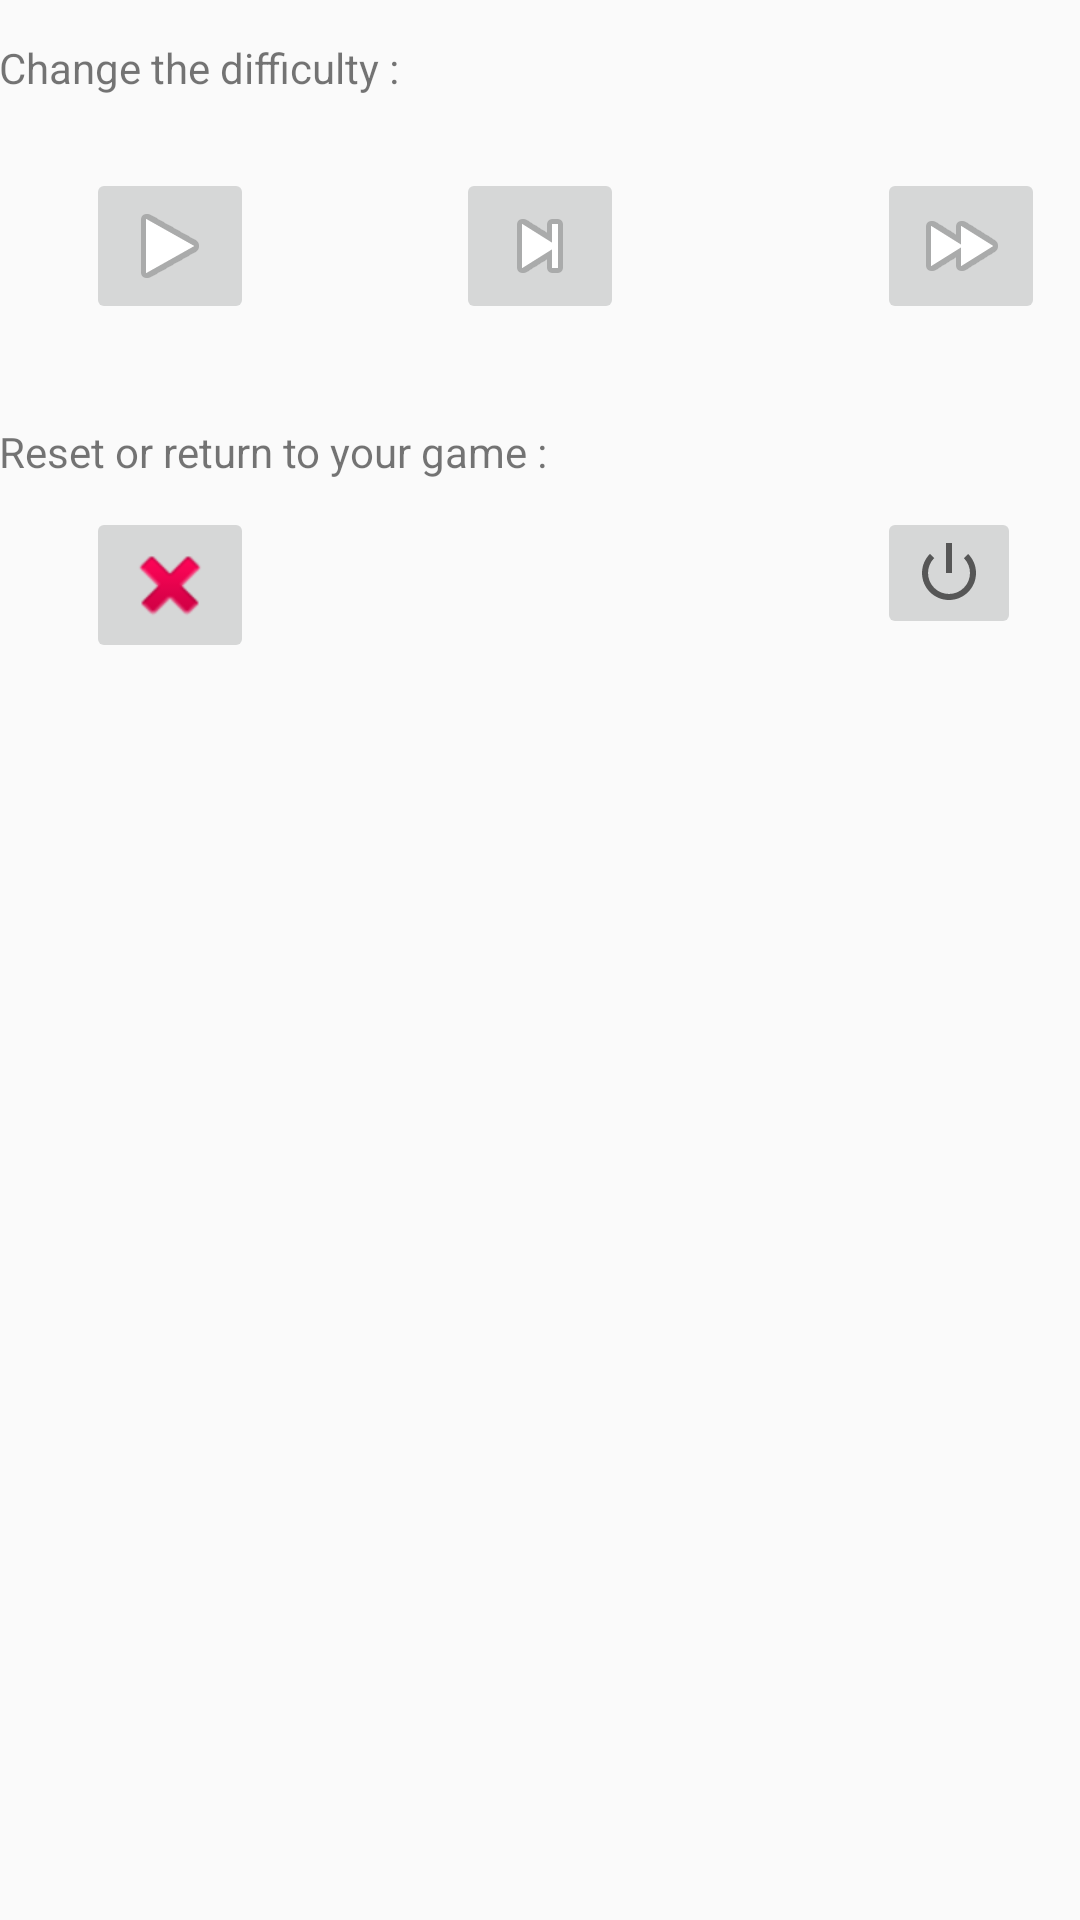

Where icons sit on this 1080 x 1920 app screen, as (x1, y1, x2, y2):
delete: (98, 525, 242, 645)
lock power off: (889, 525, 1009, 621)
next: (468, 186, 612, 306)
play: (98, 186, 242, 306)
